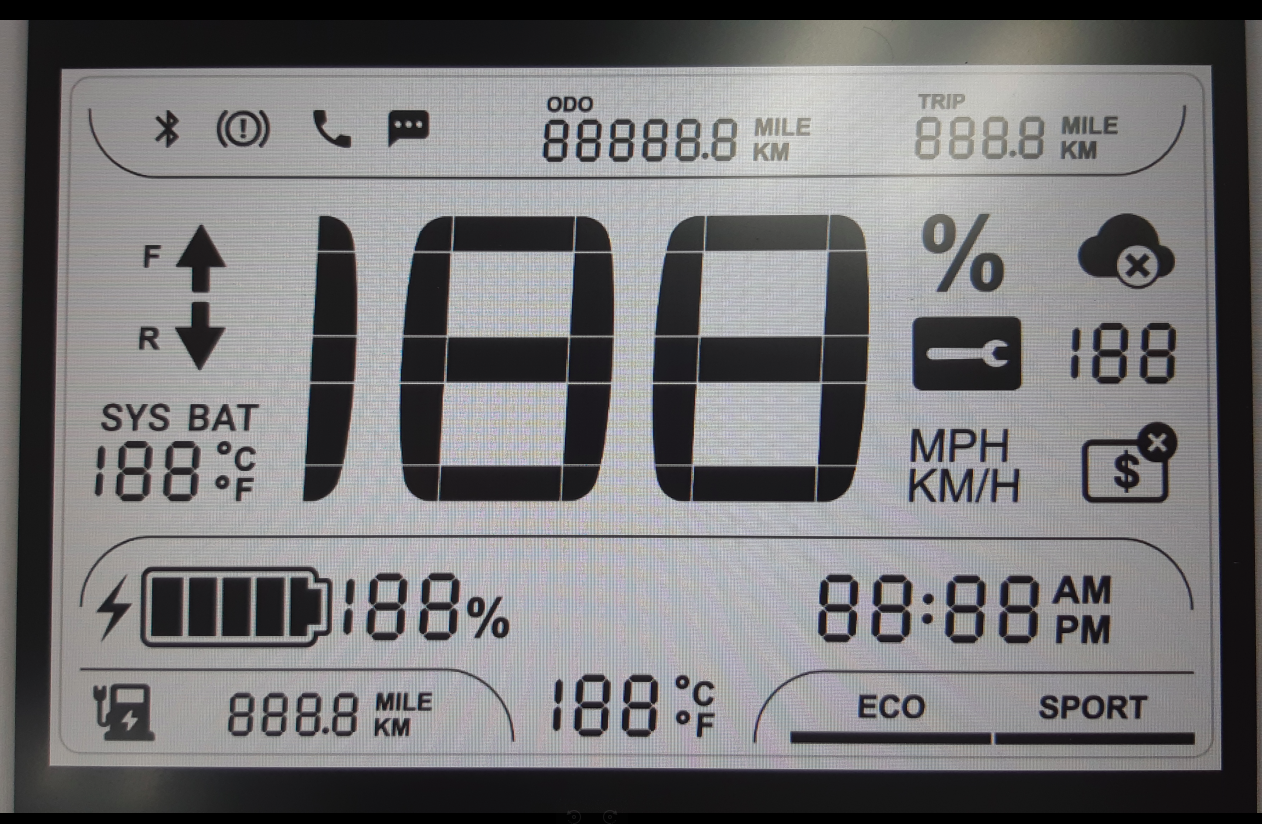bluetooth_on: (151, 106, 186, 152)
braking_on: (212, 106, 273, 153)
calling_on: (307, 104, 359, 153)
connection_lost: (1072, 208, 1179, 292)
error_code: (909, 311, 1026, 394)
low_battery: (90, 677, 164, 747)
sms_on: (382, 102, 434, 153)
vin_id: (1077, 418, 1183, 509)
